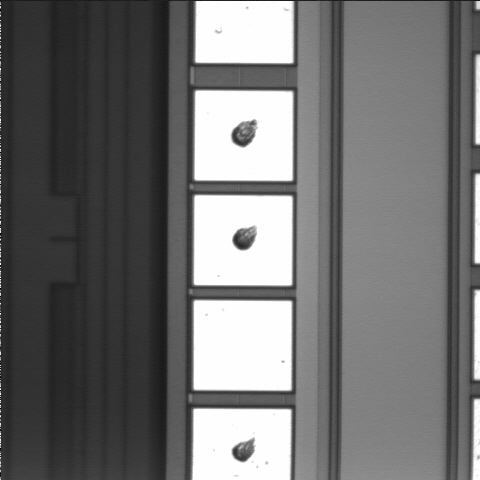pad: (194, 91, 293, 181), (194, 195, 292, 285), (194, 300, 292, 390)
